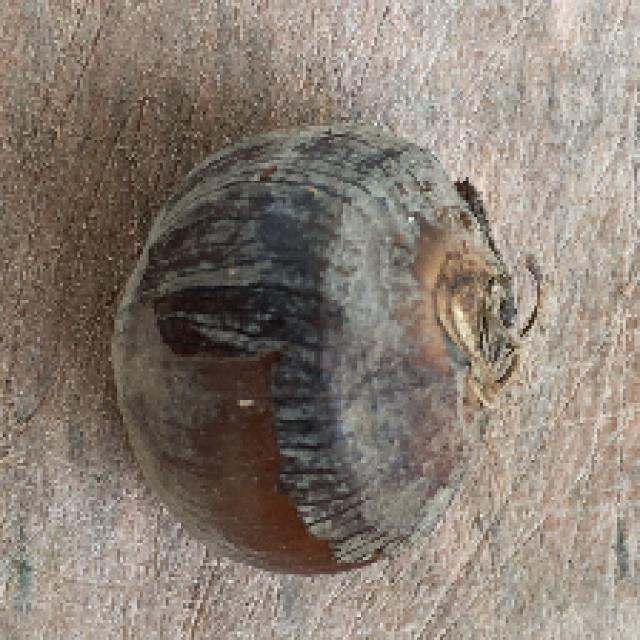damagedHazelnut: (109, 118, 541, 570)
